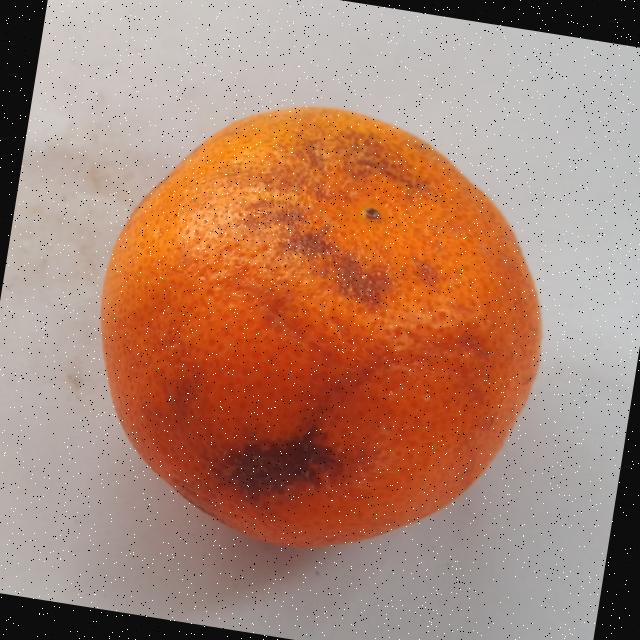overripe: (60, 69, 579, 586)
